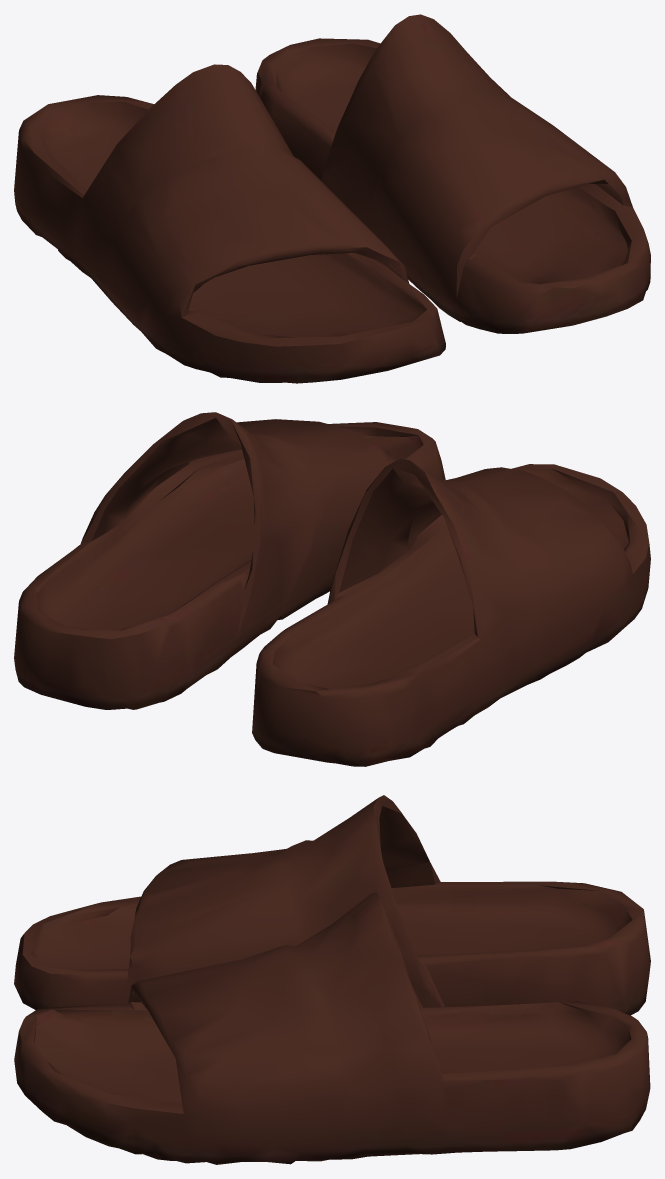
File: sandals.glb
The picture shows the model from 3 angles, top to bottom: view 1: azimuth 30°, elevation 25°; view 2: azimuth 150°, elevation 25°; view 3: azimuth 270°, elevation 25°; orthographic projection.
Visible parts, largest first — view 1: sandals; view 2: sandals; view 3: sandals.
Part boxes in pixels (box(x1,y1,x2,y2)): sandals: box(14, 14, 650, 383); sandals: box(14, 412, 650, 766); sandals: box(14, 795, 650, 1164).
Bounding box in the file's own units: 0.231 × 0.1 × 0.2711.
Materials: 1 (1 with a texture image).
